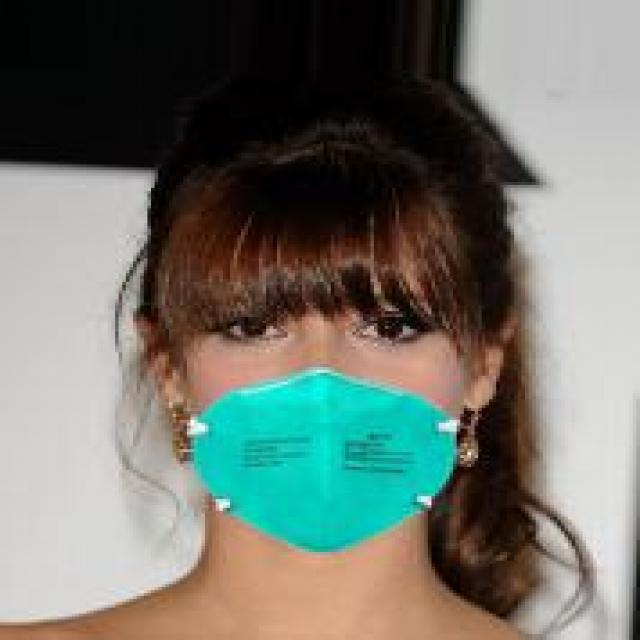mask: (144, 132, 514, 561)
